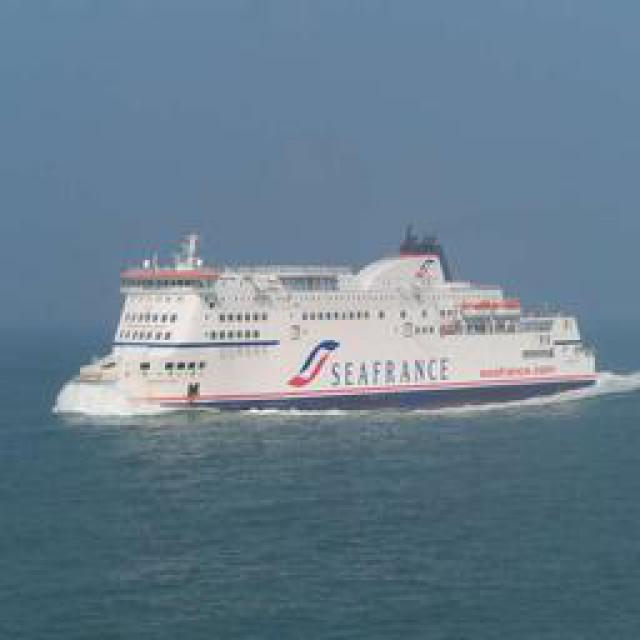Ship: (54, 212, 607, 422)
